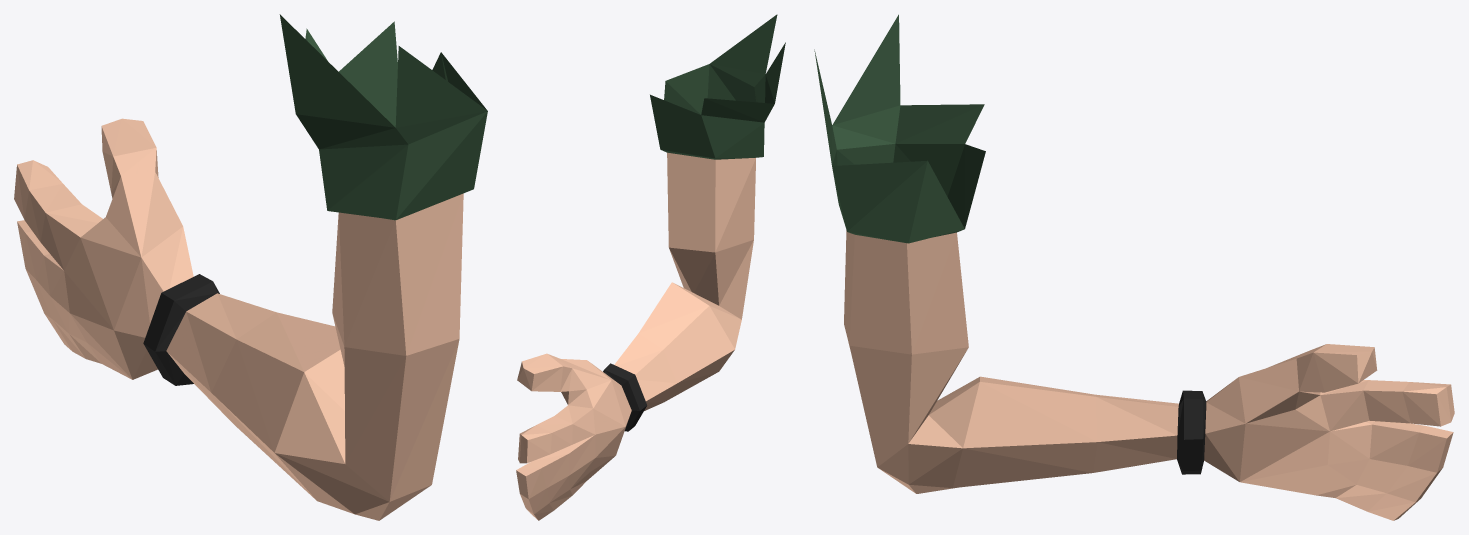
Rendered from ShopKeeper_01_ArmL_88_01_A.obj.
3 renders of one model, left to right at view 1: azimuth 30°, elevation 25°; view 2: azimuth 150°, elevation 25°; view 3: azimuth 270°, elevation 25°, orthographic. The views are drawn at different scales.
Visible parts, largest first — view 1: ShopKeeper_01_ArmL_88_01_A; view 2: ShopKeeper_01_ArmL_88_01_A; view 3: ShopKeeper_01_ArmL_88_01_A.
Part boxes in pixels (x1=…): ShopKeeper_01_ArmL_88_01_A: x1=14, y1=14, x2=487, y2=520; ShopKeeper_01_ArmL_88_01_A: x1=516, y1=14, x2=785, y2=520; ShopKeeper_01_ArmL_88_01_A: x1=814, y1=14, x2=1454, y2=520.
Bounding box in the file's own units: 0.1602 × 0.48 × 0.5958.
1 material, 1 textured.
